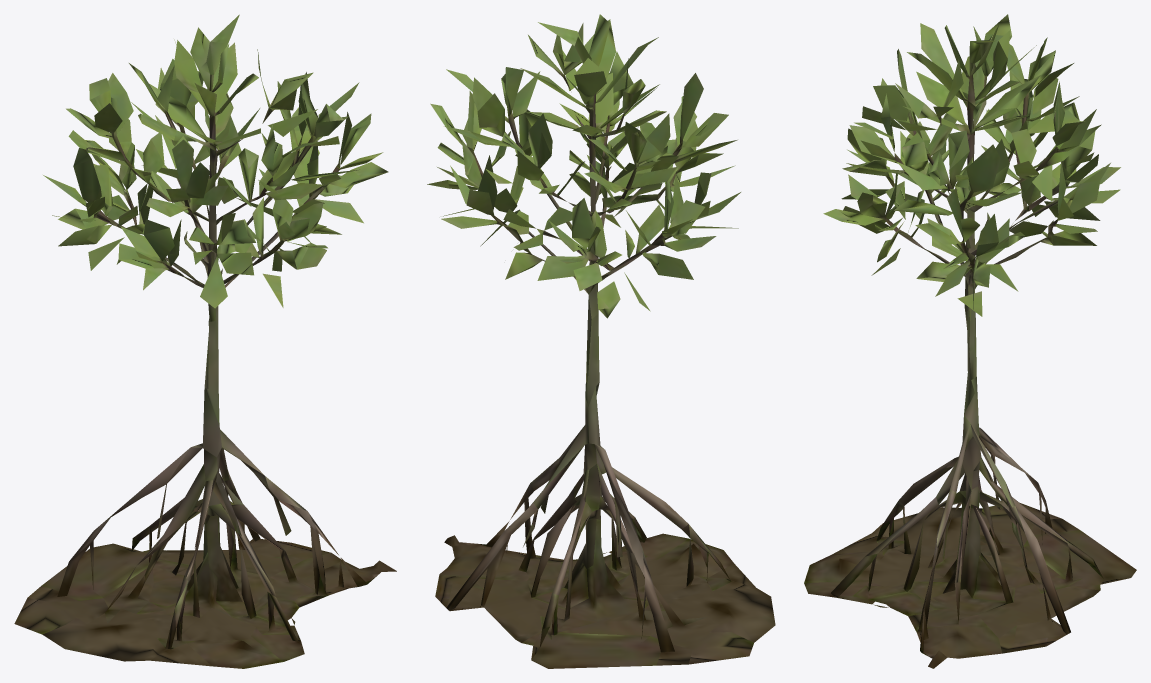
Rendered from mangrove_2_lod2.glb.
3 views of the same model, side by side, from view 1: azimuth 30°, elevation 25°; view 2: azimuth 150°, elevation 25°; view 3: azimuth 270°, elevation 25° (orthographic).
Parts seen in each view (by area): view 1: tripo_node_24590e51-4d40-4ea1-9e47-aa69668ac8d5; view 2: tripo_node_24590e51-4d40-4ea1-9e47-aa69668ac8d5; view 3: tripo_node_24590e51-4d40-4ea1-9e47-aa69668ac8d5.
Boxes of the visible parts, left/top/right/bottom form: tripo_node_24590e51-4d40-4ea1-9e47-aa69668ac8d5: left=14, top=14, right=396, bottom=668; tripo_node_24590e51-4d40-4ea1-9e47-aa69668ac8d5: left=427, top=14, right=775, bottom=668; tripo_node_24590e51-4d40-4ea1-9e47-aa69668ac8d5: left=804, top=14, right=1136, bottom=668.
Size of the model in its own units: 0.6283 by 0.9973 by 0.5291.
1 material, 1 textured.
